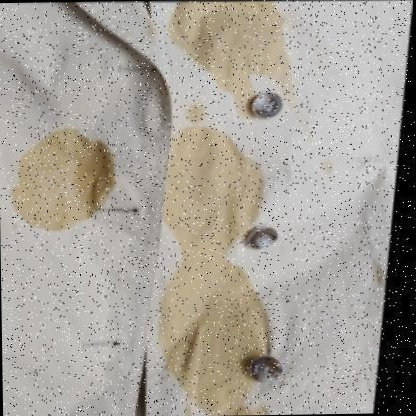coffee: (162, 135, 241, 251), (175, 2, 290, 76), (170, 266, 262, 355), (14, 140, 109, 225)
